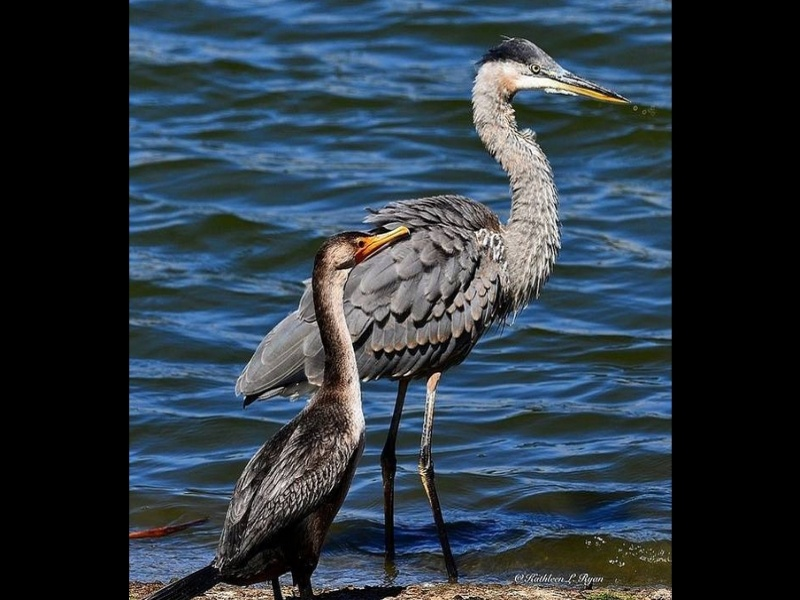heron: (251, 30, 633, 593), (154, 218, 413, 600)
